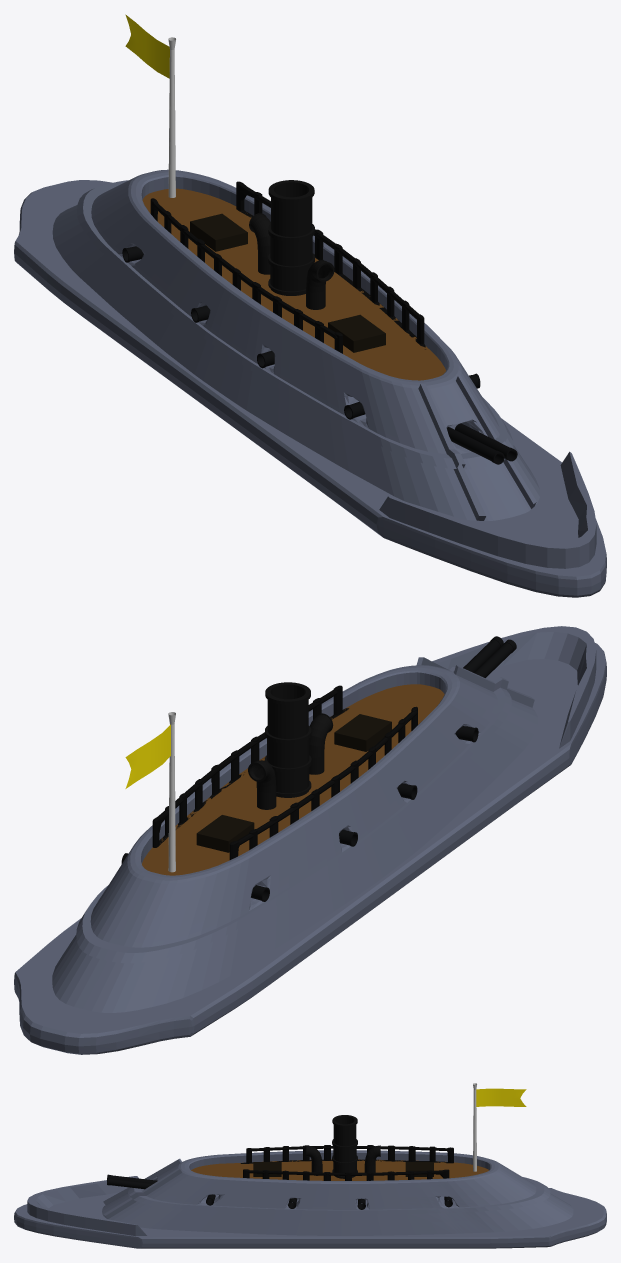
The model's file is ironclad02.obj.
3 renders of one model, top to bottom at view 1: azimuth 30°, elevation 25°; view 2: azimuth 150°, elevation 25°; view 3: azimuth 270°, elevation 25°, orthographic. The views are drawn at different scales.
Visible parts, largest first — view 1: Circle_Circle_bpdy, Plane_Plane_bpdy, upper_deck_Circle.004_deck, upper_deck.001_Circle.012_rails, Circle.001_Circle.001_steam_outets, deck_door_Cube_deck_door, deck_door.001_Cube.001_deck_door, flag_Plane.001_flag, small_mast_Circle.011_small_mast, Circle.002_Circle.002_steam_outets, Circle.003_Circle.003_steam_outets, Circle.008_Circle.009_cannon; view 2: Circle_Circle_bpdy, Plane_Plane_bpdy, upper_deck_Circle.004_deck, upper_deck.001_Circle.012_rails, Circle.001_Circle.001_steam_outets, deck_door.001_Cube.001_deck_door, flag_Plane.001_flag, deck_door_Cube_deck_door, Circle.003_Circle.003_steam_outets, small_mast_Circle.011_small_mast, Circle.002_Circle.002_steam_outets, Circle.008_Circle.009_cannon; view 3: Circle_Circle_bpdy, Plane_Plane_bpdy, upper_deck_Circle.004_deck, upper_deck.001_Circle.012_rails, Circle.001_Circle.001_steam_outets, flag_Plane.001_flag, small_mast_Circle.011_small_mast, deck_door.001_Cube.001_deck_door, Circle.002_Circle.002_steam_outets, deck_door_Cube_deck_door, Circle.003_Circle.003_steam_outets, Circle.009_Circle.010_cannon.
Part boxes in pixels (box(x1,y1,x2,y2)): Circle_Circle_bpdy: box(52, 169, 539, 520); Plane_Plane_bpdy: box(14, 180, 606, 597); upper_deck_Circle.004_deck: box(142, 188, 445, 380); upper_deck.001_Circle.012_rails: box(150, 181, 425, 353); Circle.001_Circle.001_steam_outets: box(268, 180, 314, 295); deck_door_Cube_deck_door: box(190, 213, 247, 251); deck_door.001_Cube.001_deck_door: box(328, 314, 385, 352); flag_Plane.001_flag: box(125, 14, 169, 78); small_mast_Circle.011_small_mast: box(168, 37, 175, 197); Circle.002_Circle.002_steam_outets: box(306, 260, 334, 309); Circle.003_Circle.003_steam_outets: box(249, 213, 270, 274); Circle.008_Circle.009_cannon: box(447, 427, 504, 464); Circle_Circle_bpdy: box(52, 657, 538, 1012); Plane_Plane_bpdy: box(14, 626, 606, 1054); upper_deck_Circle.004_deck: box(142, 684, 444, 875); upper_deck.001_Circle.012_rails: box(152, 685, 417, 859); Circle.001_Circle.001_steam_outets: box(264, 682, 311, 797); deck_door.001_Cube.001_deck_door: box(334, 714, 391, 751); flag_Plane.001_flag: box(125, 724, 170, 788); deck_door_Cube_deck_door: box(196, 815, 254, 852); Circle.003_Circle.003_steam_outets: box(248, 760, 276, 809); small_mast_Circle.011_small_mast: box(168, 712, 175, 872); Circle.002_Circle.002_steam_outets: box(309, 713, 333, 774); Circle.008_Circle.009_cannon: box(474, 639, 516, 677); Circle_Circle_bpdy: box(102, 1150, 573, 1235); Plane_Plane_bpdy: box(14, 1176, 606, 1248); upper_deck_Circle.004_deck: box(191, 1159, 488, 1180); upper_deck.001_Circle.012_rails: box(240, 1145, 453, 1180); Circle.001_Circle.001_steam_outets: box(332, 1115, 357, 1178); flag_Plane.001_flag: box(476, 1088, 526, 1106); small_mast_Circle.011_small_mast: box(473, 1083, 476, 1171); deck_door.001_Cube.001_deck_door: box(253, 1162, 281, 1176); Circle.002_Circle.002_steam_outets: box(306, 1145, 322, 1175); deck_door_Cube_deck_door: box(405, 1162, 433, 1176); Circle.003_Circle.003_steam_outets: box(364, 1145, 380, 1172); Circle.009_Circle.010_cannon: box(107, 1178, 153, 1189).
Size of the model in its own units: 0.7572 by 0.937 by 3.62.
